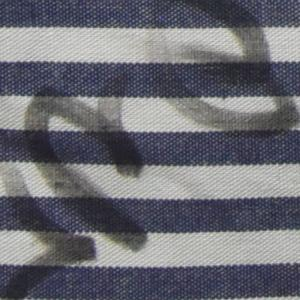Stain: (1, 73, 150, 300), (145, 1, 300, 140)
